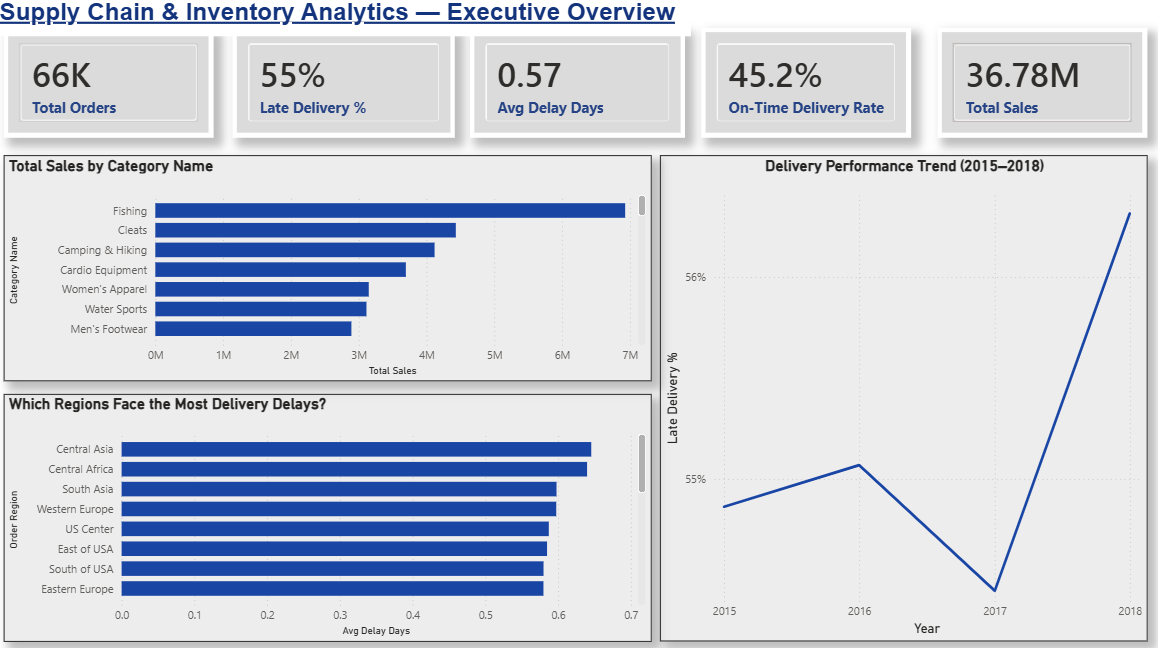

The page's visual inventory and layout, read from the dashboard file:
{"tool":"powerbi","page":{"name":"Page 1","canvas":[1280,720],"ordinal":0},"visuals":[{"type":"cardVisual","fields":{"Data":["supply_chain_clean.Total Orders"]},"box":[9.6,0,255.2,157.8],"z":0},{"type":"cardVisual","fields":{"Data":["supply_chain_clean.Late Delivery %"]},"box":[264.8,0,263.5,157.8],"z":1000},{"type":"cardVisual","fields":{"Data":["supply_chain_clean.Avg Delay Days"]},"box":[528.3,0,266.2,157.8],"z":2000},{"type":"cardVisual","fields":{"Data":["supply_chain_clean.On-Time Delivery Rate"]},"box":[794.5,0,240.1,157.8],"z":3000},{"type":"cardVisual","fields":{"Data":["supply_chain_clean.Total Sales"]},"box":[1034.7,0,245.6,157.8],"z":4000},{"type":"clusteredBarChart","fields":{"Category":["supply_chain_clean.Order Region"],"Y":["supply_chain_clean.Avg Delay Days"]},"box":[0,451.5,730,269],"z":5000},{"type":"lineChart","fields":{"Category":["supply_chain_clean.order date (DateOrders).Variation.Date Hierarchy.Year","supply_chain_clean.order date (DateOrders).Variation.Date Hierarchy.Quarter","supply_chain_clean.order date (DateOrders).Variation.Date Hierarchy.Month","supply_chain_clean.order date (DateOrders).Variation.Date Hierarchy.Day"],"Y":["supply_chain_clean.Late Delivery %"]},"box":[730,157.8,550.3,562.6],"z":5001},{"type":"clusteredBarChart","fields":{"Category":["supply_chain_clean.Category Name"],"Y":["supply_chain_clean.Total Sales"]},"box":[9.6,157.8,720.4,281.3],"z":5002}]}

Visuals, with their boxes in screenshot pixels (x1, y1, x2, y2), scaled from the page's 1280x720 canvas onto the 1158x648 screenshot:
cardVisual - supply_chain_clean.Total Orders: <region>9, 0, 240, 142</region>
cardVisual - supply_chain_clean.Late Delivery %: <region>240, 0, 478, 142</region>
cardVisual - supply_chain_clean.Avg Delay Days: <region>478, 0, 719, 142</region>
cardVisual - supply_chain_clean.On-Time Delivery Rate: <region>719, 0, 936, 142</region>
cardVisual - supply_chain_clean.Total Sales: <region>936, 0, 1157, 142</region>
clusteredBarChart - supply_chain_clean.Order Region x supply_chain_clean.Avg Delay Days: <region>0, 406, 660, 647</region>
lineChart - supply_chain_clean.order date (DateOrders).Variation.Date Hierarchy.Year x supply_chain_clean.order date (DateOrders).Variation.Date Hierarchy.Quarter: <region>660, 142, 1157, 647</region>
clusteredBarChart - supply_chain_clean.Category Name x supply_chain_clean.Total Sales: <region>9, 142, 660, 395</region>
